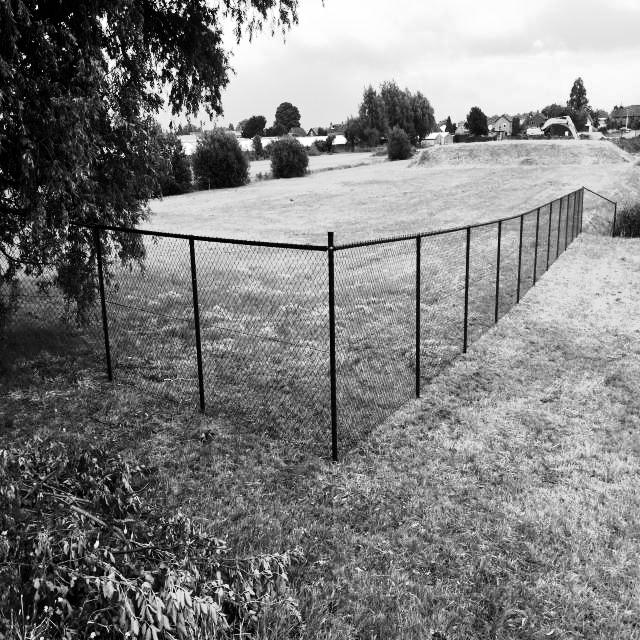fences: (341, 184, 587, 449), (109, 225, 335, 456)
